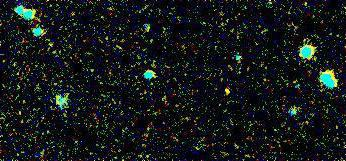star: (211, 73, 241, 103)
